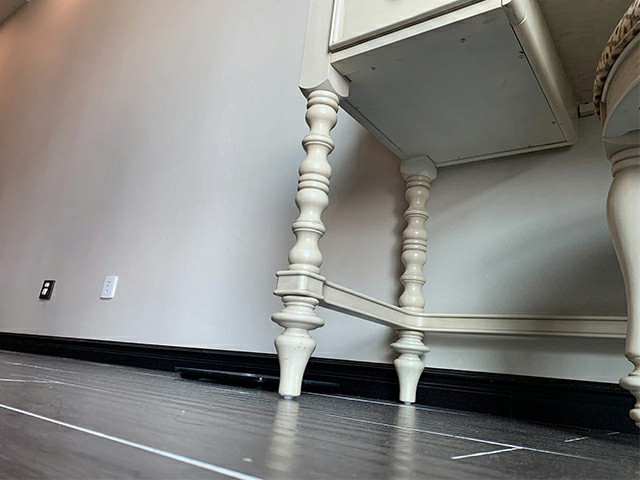stool: (589, 1, 640, 432)
table: (270, 1, 640, 404)
